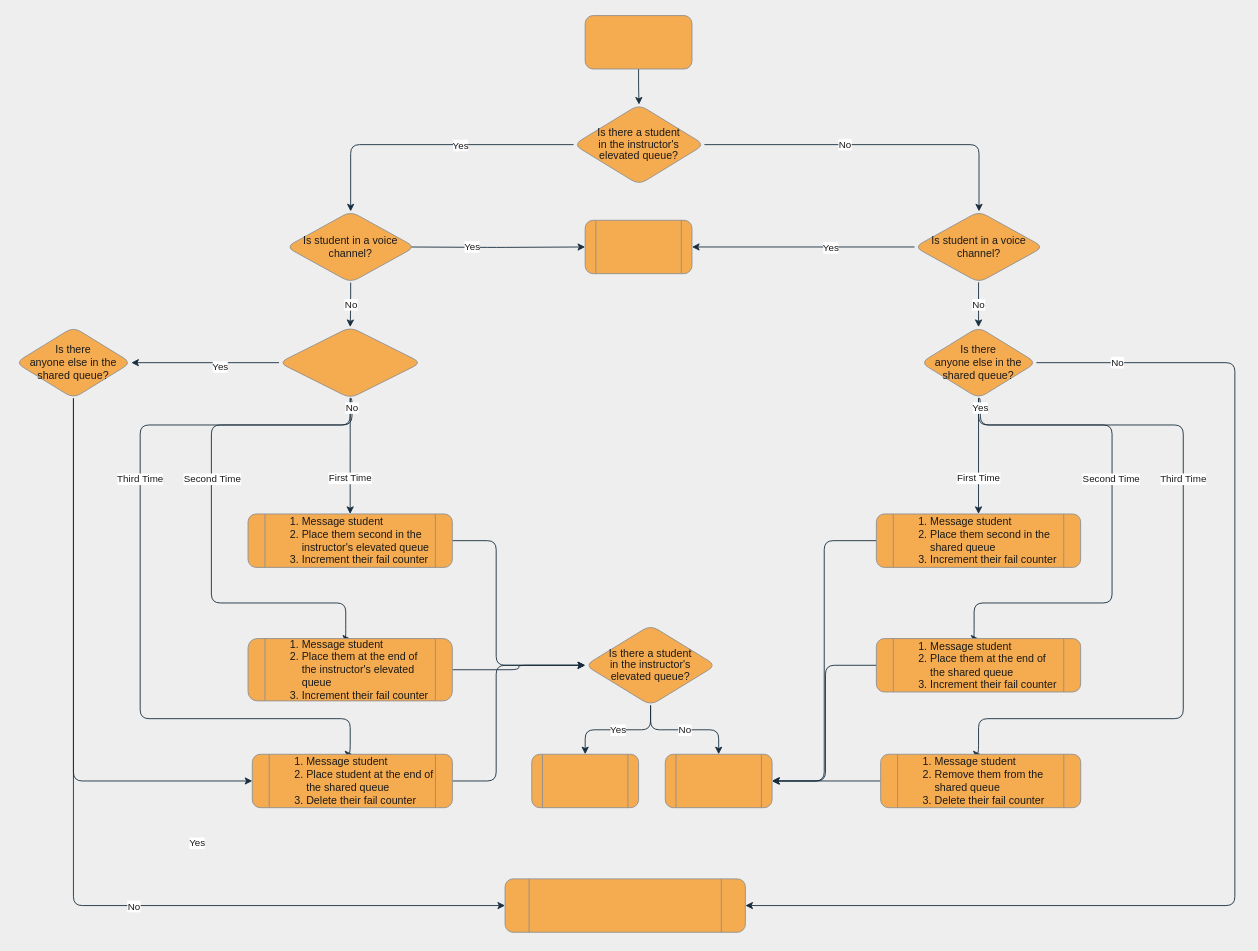
Image size: 1258x951. Some labels were removed from this diagram. The shapes that lost their labels are listed below. From the top down, each one's centre as x and y in pixels, then its label:
the point at 638,42: Instructor run /dq
the point at 638,246: Place student into instructor's OH room
the point at 349,362: Is student the only student in the elevated queue?
the point at 585,780: Dequeue the next student from the instructor's elevated queue
the point at 718,780: Dequeue the next student from the shared queue
the point at 624,905: Message student Remove them from all queues Delete their fail counter
